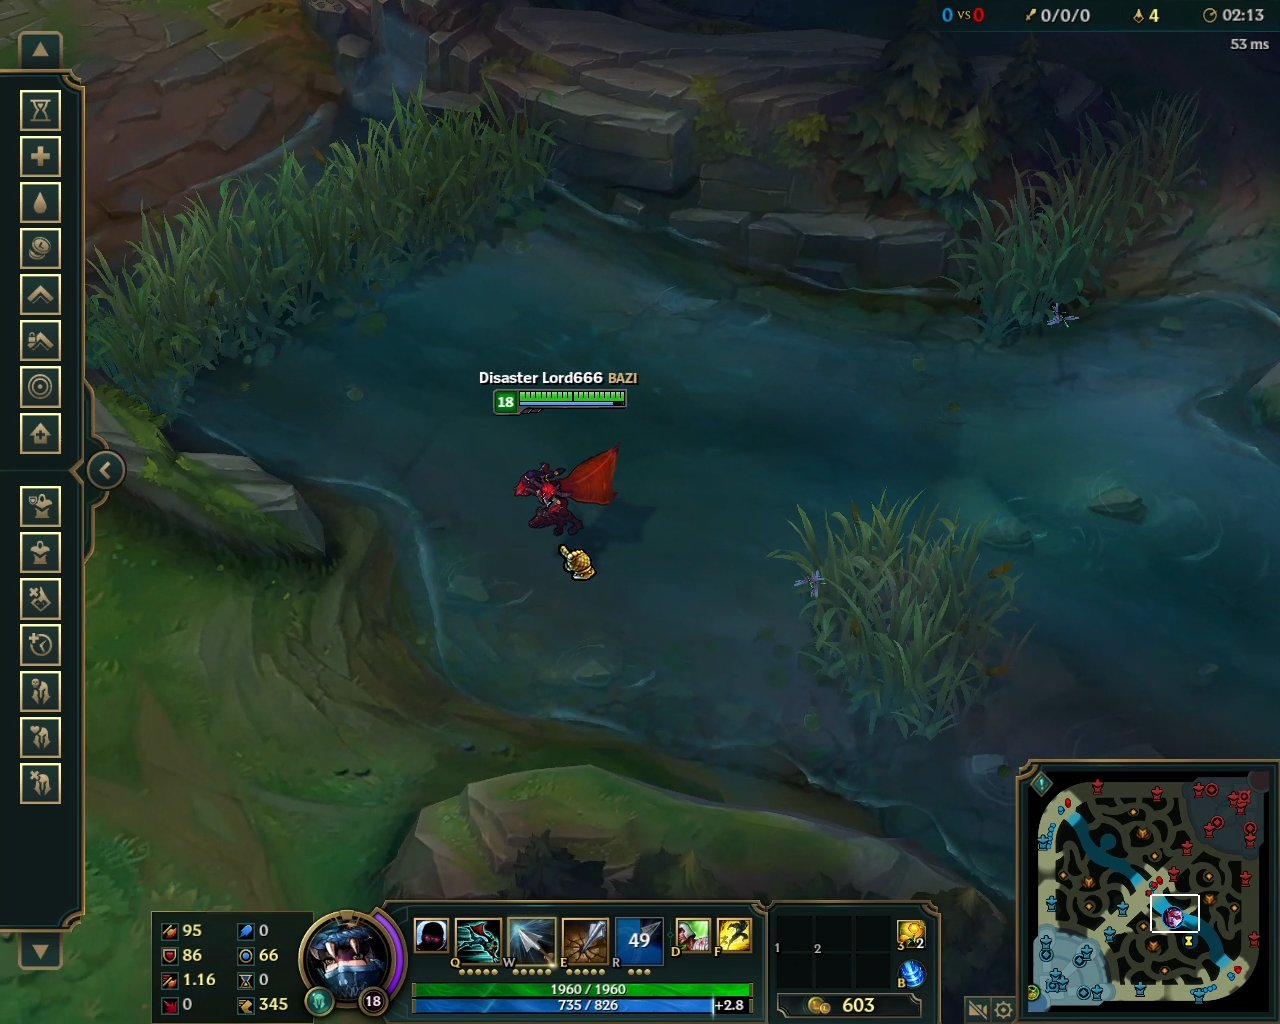Vayne: (512, 438, 630, 544)
